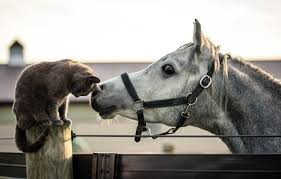Cat: (9, 49, 100, 150)
Horse: (97, 14, 280, 162)
